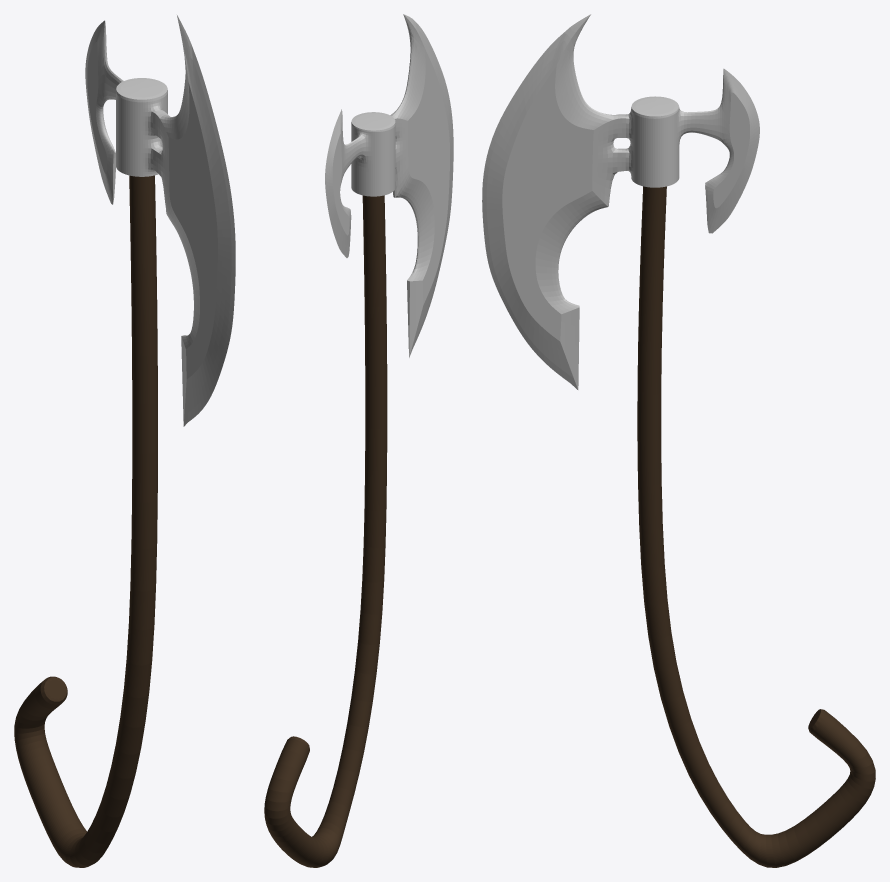
Rendered from Ascia_gnomo.fbx.
3 renders of one model, left to right at view 1: azimuth 30°, elevation 25°; view 2: azimuth 150°, elevation 25°; view 3: azimuth 270°, elevation 25°, orthographic. The views are drawn at different scales.
Parts seen in each view (by area): view 1: Ascia; view 2: Ascia; view 3: Ascia.
Boxes of the visible parts, x1,y1,x2,y2 form: Ascia: (14, 15, 235, 867); Ascia: (264, 14, 453, 867); Ascia: (482, 14, 875, 867).
Size of the model in its own units: 23.98 by 469 by 196.
